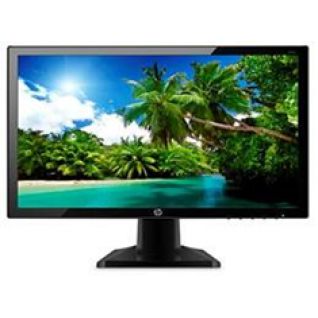hp-monitor-19ka: (1, 44, 309, 267)
